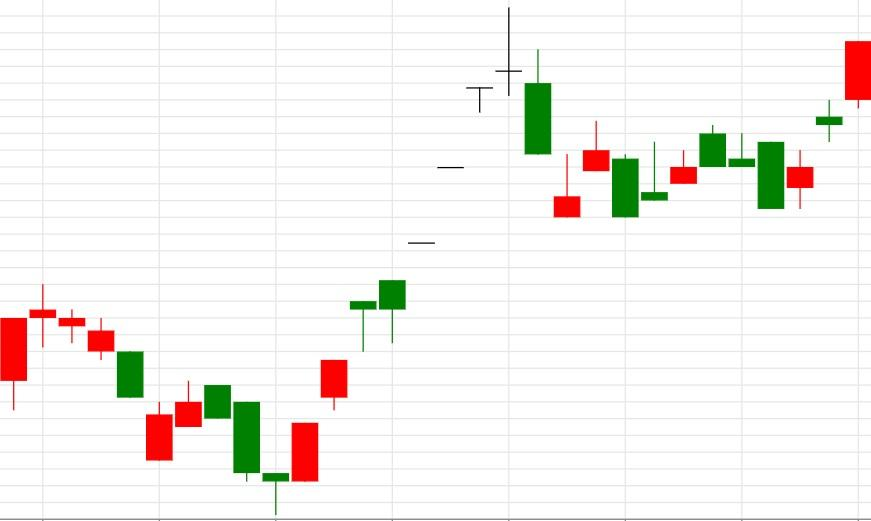inverse_hammer_rise: (494, 7, 581, 217)
morning_star_rise: (204, 384, 320, 514)
